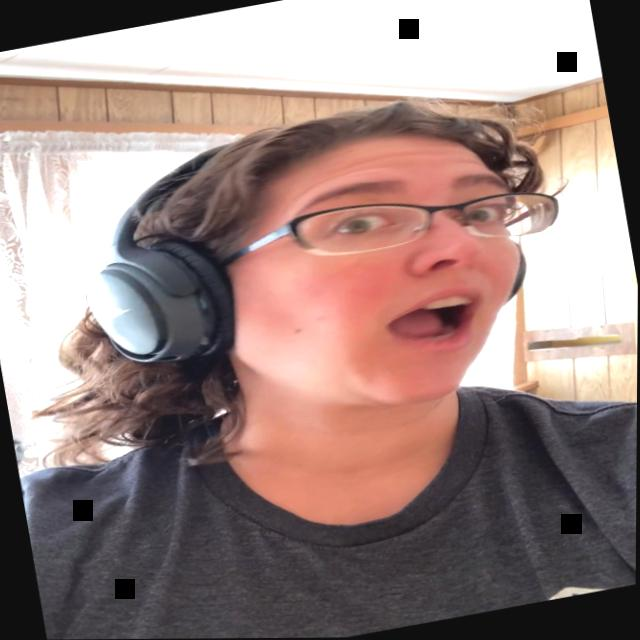NO-Mask: (198, 116, 543, 434)
